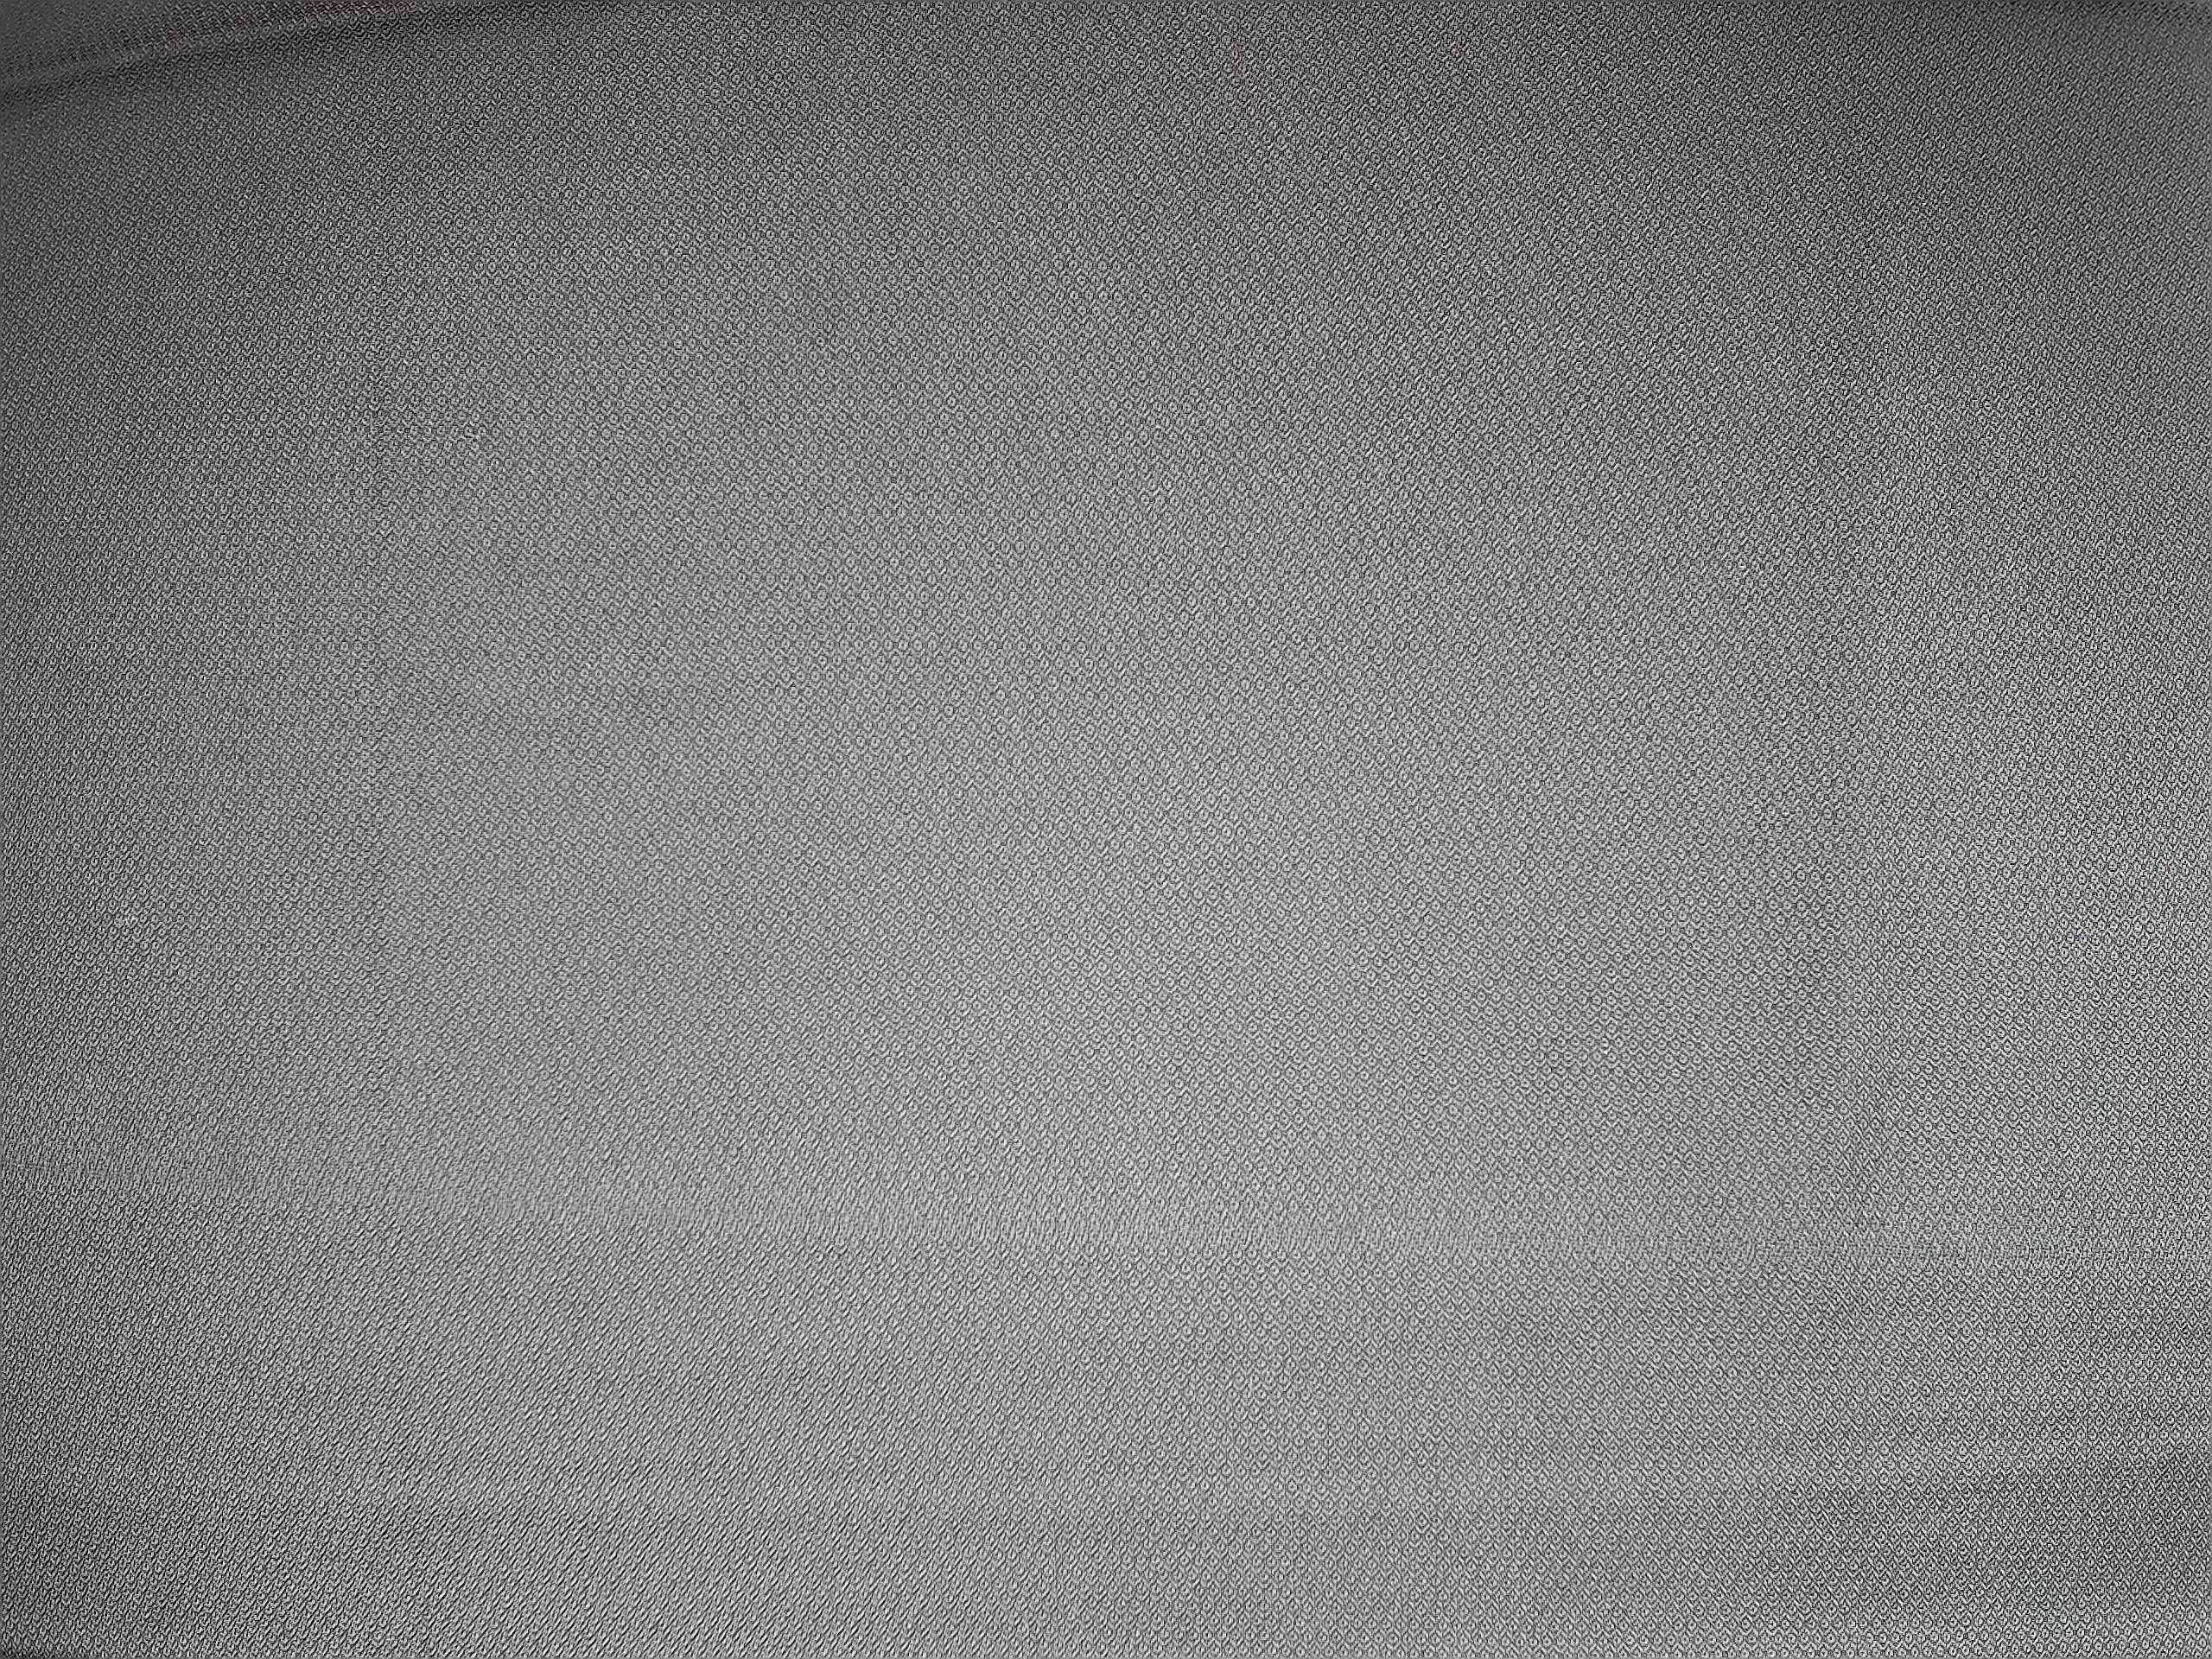thin-spinning: (3, 1134, 2209, 1290)
